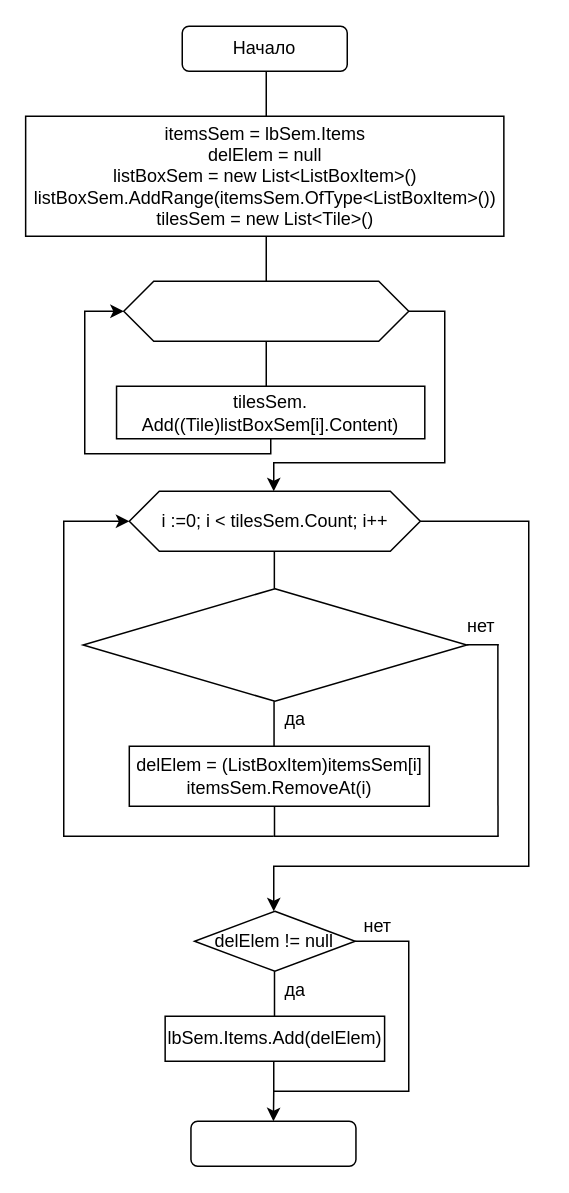
Some shapes in this 569 by 1193 pixel diagram are drawn without their labels. Here are the shapes that lost their labels. From the top down, the centre of each, then its label:
At (265,310): "i :=0; i < listBoxSem.Count; i++".
At (274,644): "tilesSem[i].btnThrowOfTile.IsMouseOver".
At (272,1143): "Конец".
